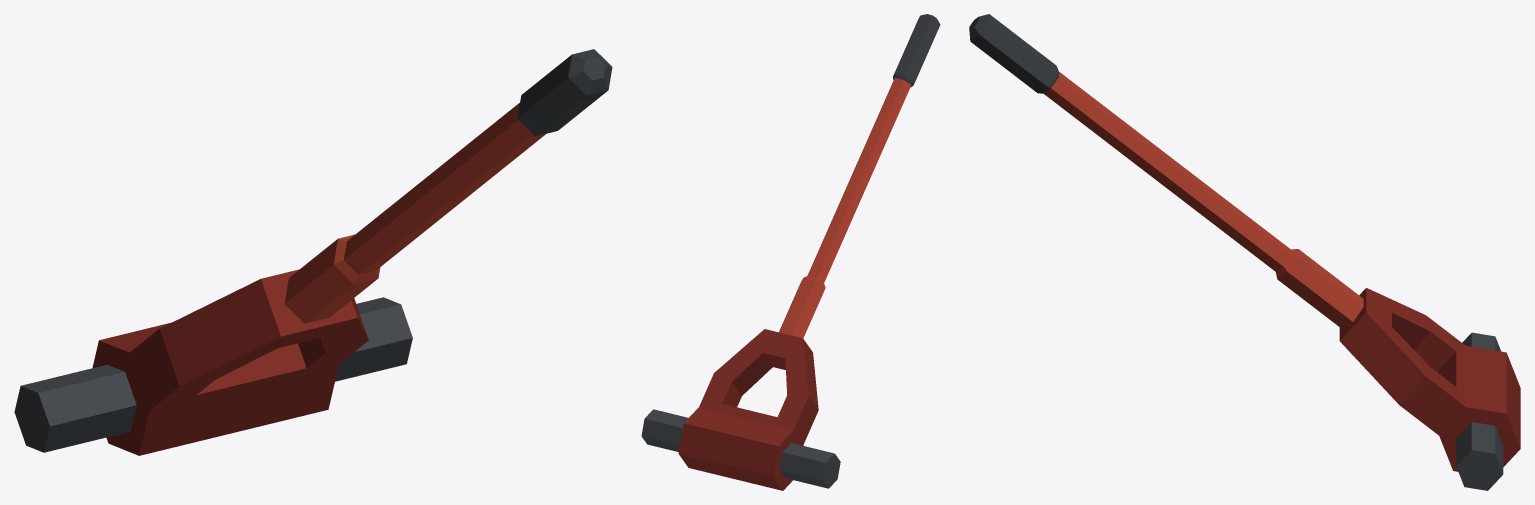
File: SM_Prop_CarJack_Arm_01.fbx
3 renders of one model, left to right at view 1: azimuth 30°, elevation 25°; view 2: azimuth 150°, elevation 25°; view 3: azimuth 270°, elevation 25°, orthographic. The views are drawn at different scales.
Parts seen in each view (by area): view 1: SM_Prop_CarJack_Arm_01; view 2: SM_Prop_CarJack_Arm_01; view 3: SM_Prop_CarJack_Arm_01.
Boxes of the visible parts, <box> form: SM_Prop_CarJack_Arm_01: <box>14,49,612,455</box>; SM_Prop_CarJack_Arm_01: <box>641,14,940,490</box>; SM_Prop_CarJack_Arm_01: <box>969,14,1520,490</box>.
Size of the model in its own units: 35.65 by 60.7 by 70.61.
